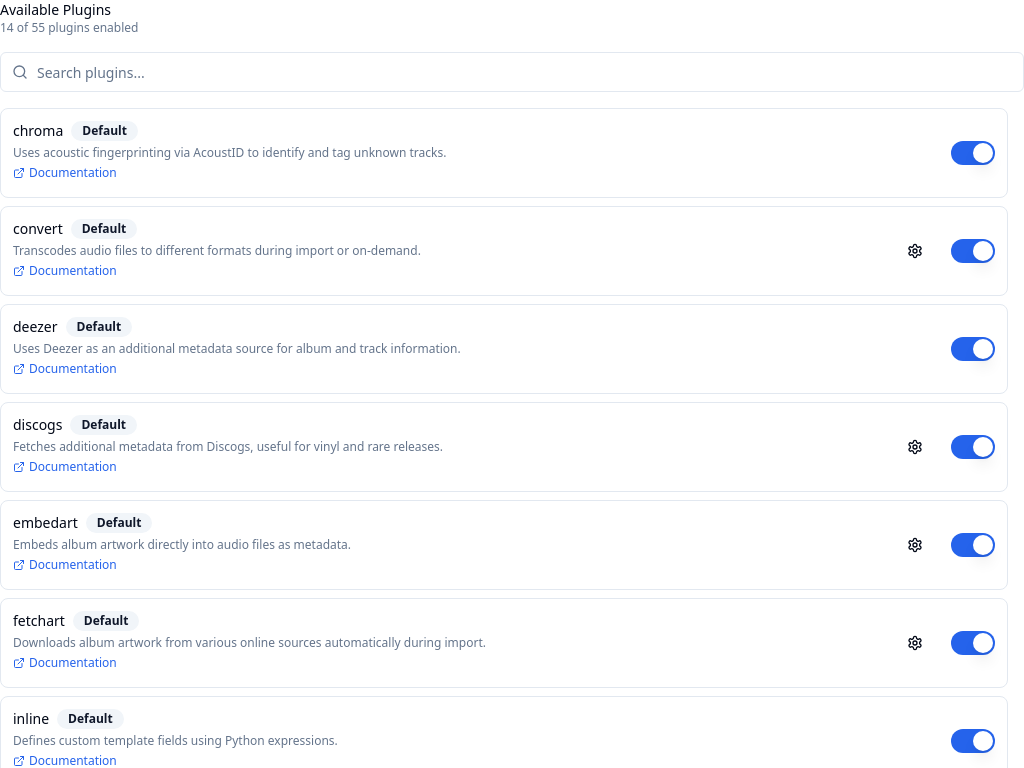
Test: PluginManager › settings dialogs › should open convert settings dialog when cog clicked
The image size is (1024, 768).
Filter to convert plugin
Type "convert" into the field with placeholder "Search plugins...". click: (512, 72)
box: [0, 52, 1023, 92]
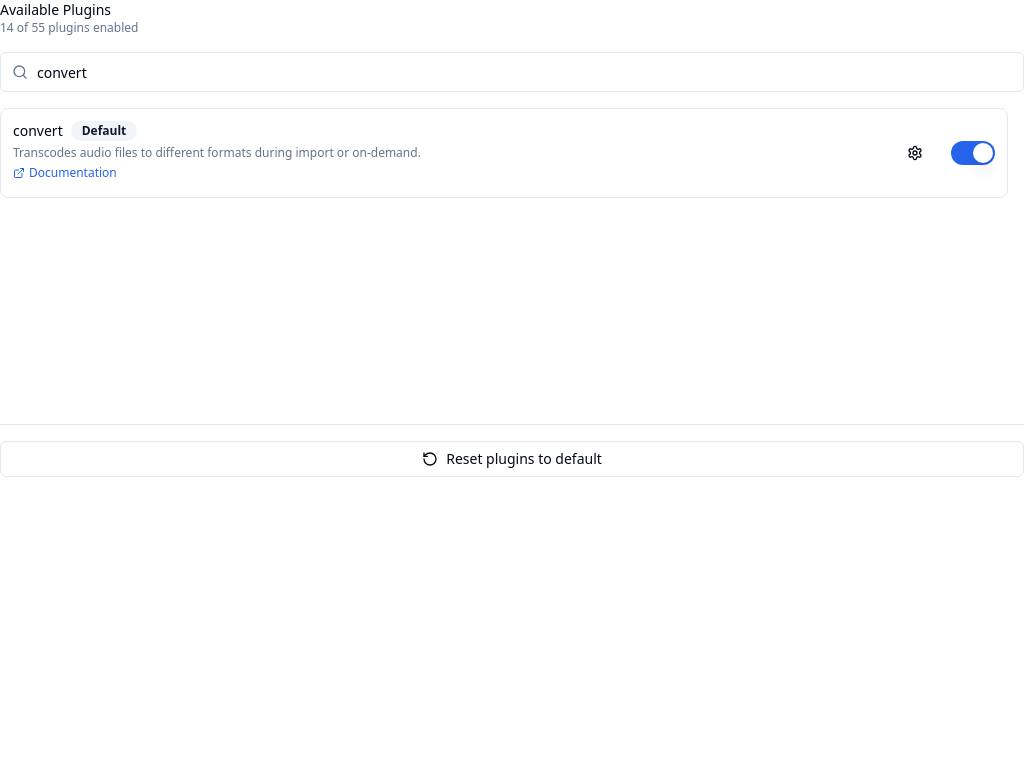
Click the button named "configure convert plugin settings". click: (915, 153)
box: [899, 137, 931, 169]
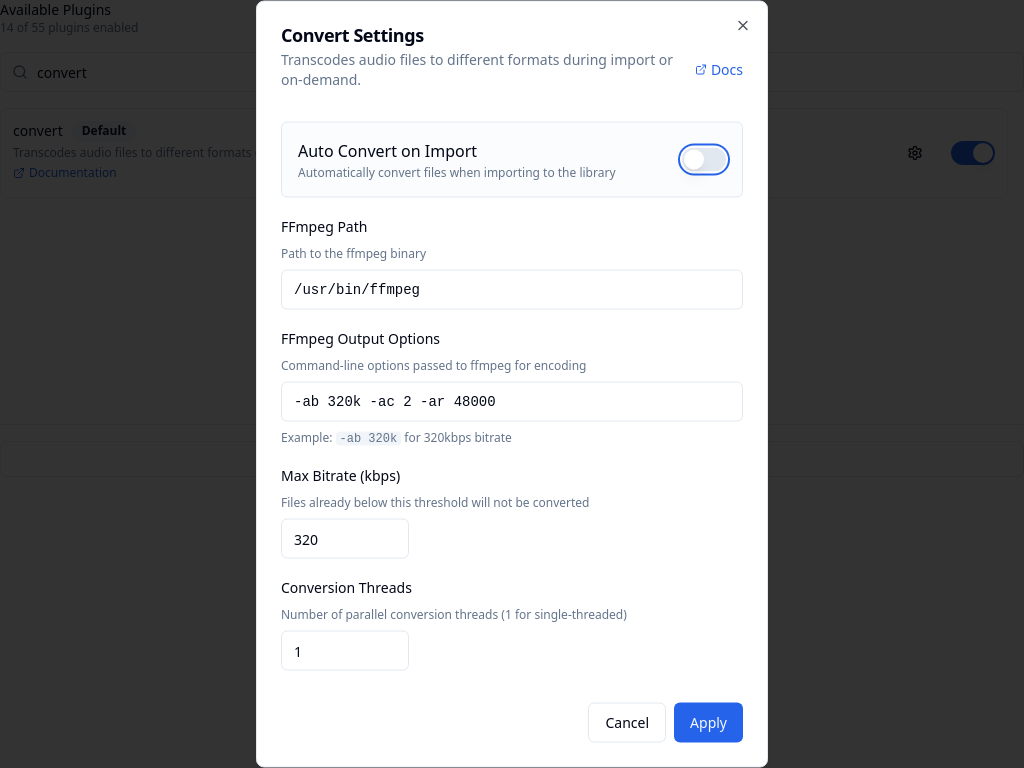
expect the heading "convert Settings" is shown: met, box [281, 22, 424, 46]
